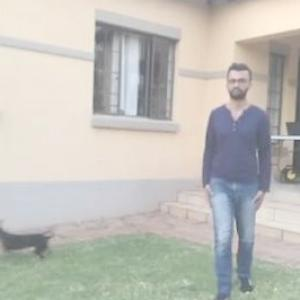follow: (198, 68, 268, 288)
